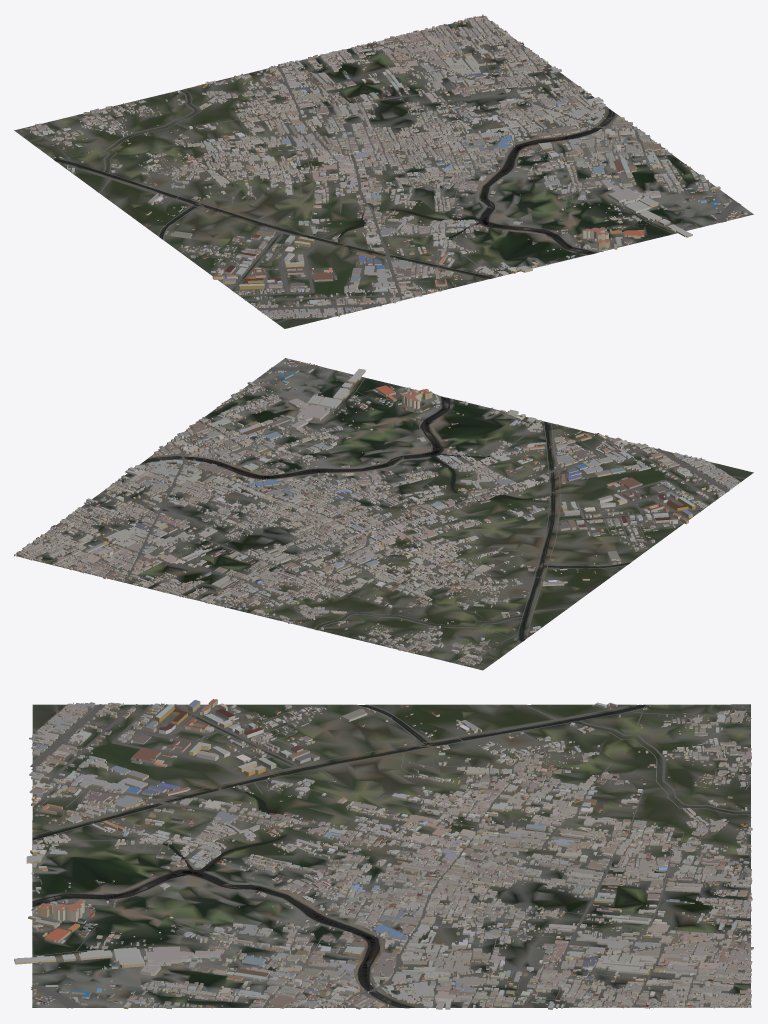
3 views of the same model, one above another, from view 1: azimuth 30°, elevation 25°; view 2: azimuth 150°, elevation 25°; view 3: azimuth 270°, elevation 25° (orthographic). The views are drawn at different scales.
Parts seen in each view (by area): view 1: ground, buildings, roads, water; view 2: ground, buildings, roads, water; view 3: ground, buildings, roads, water.
Boxes of the visible parts, left/top/right/bottom form: ground: left=14, top=16, right=753, bottom=328; buildings: left=20, top=14, right=747, bottom=318; roads: left=20, top=20, right=741, bottom=319; water: left=54, top=88, right=614, bottom=320; ground: left=16, top=358, right=753, bottom=670; buildings: left=14, top=359, right=739, bottom=667; roads: left=34, top=364, right=740, bottom=668; water: left=141, top=396, right=740, bottom=641; ground: left=32, top=704, right=750, bottom=1008; buildings: left=14, top=699, right=753, bottom=1009; roads: left=30, top=704, right=751, bottom=1008; water: left=32, top=704, right=645, bottom=1007.
Size of the model in its own units: 2836 by 47.72 by 2885.
